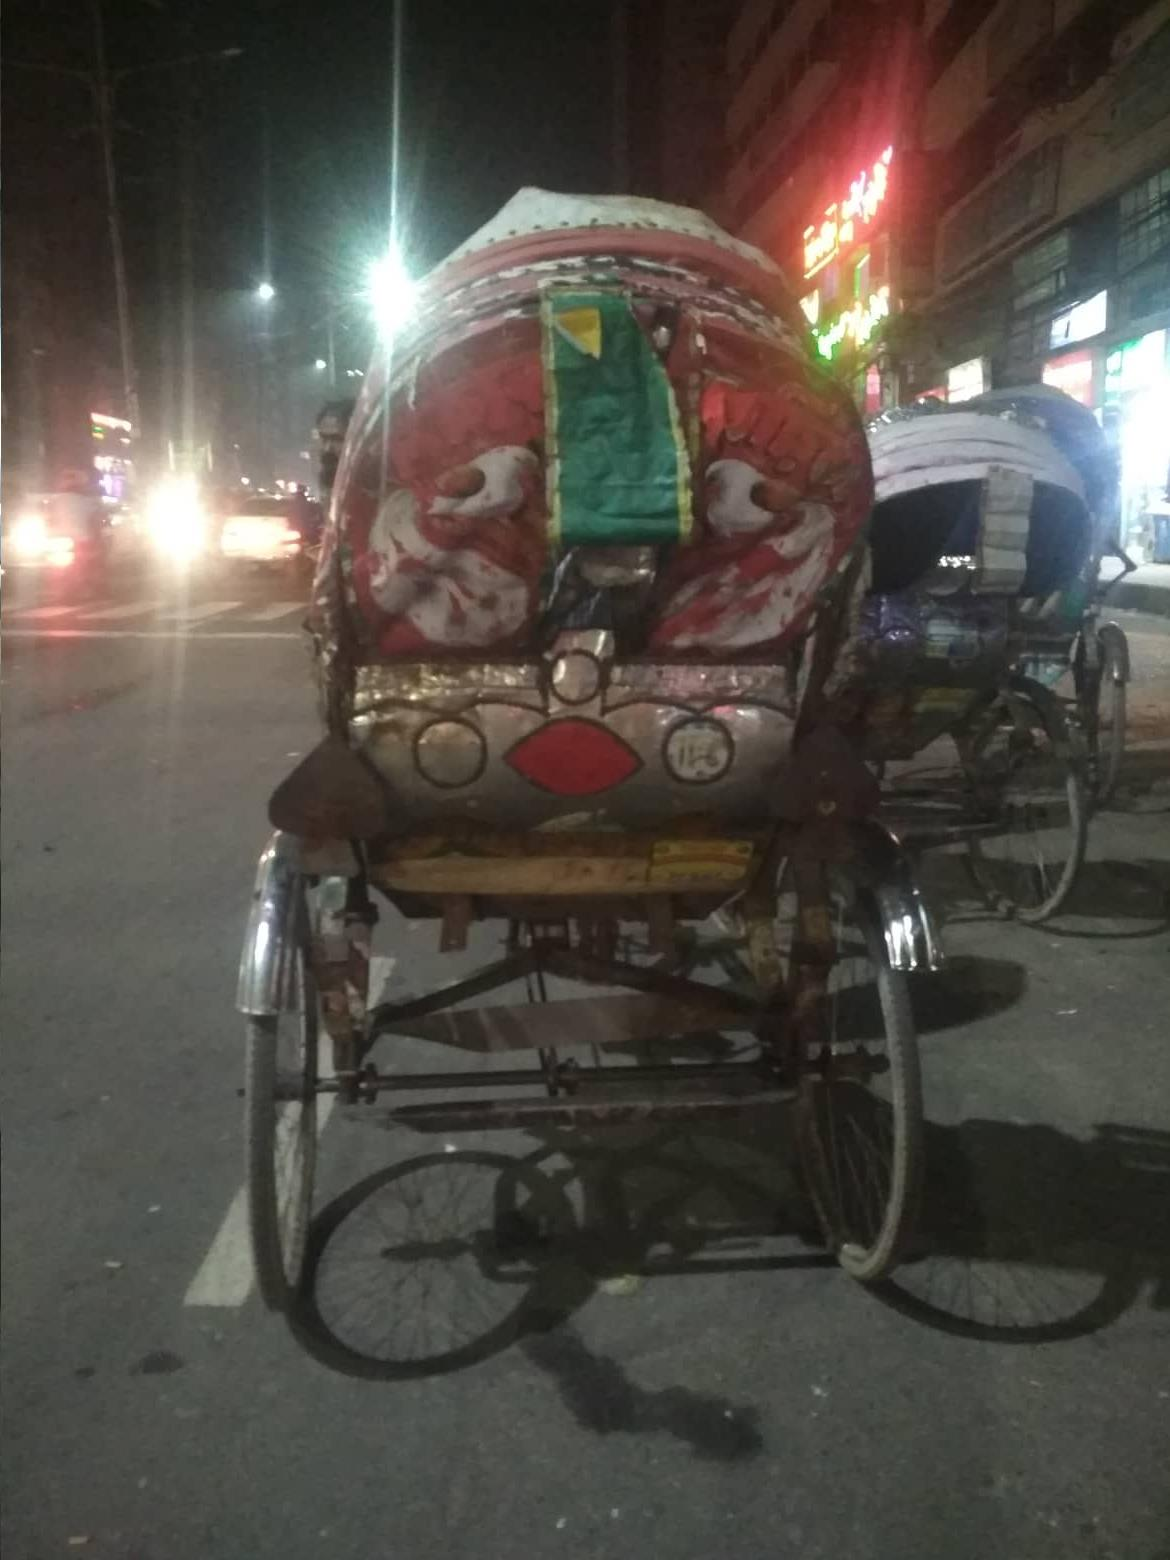Rickshaw: (214, 174, 1041, 1347), (838, 333, 1121, 995)
